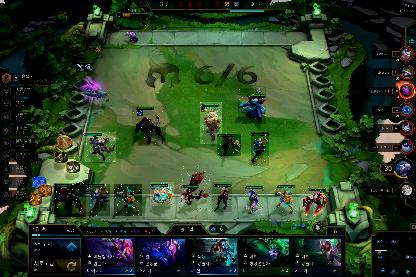1_diana: (212, 182, 232, 212)
1_leesin: (86, 184, 110, 216), (251, 132, 269, 166)
1_nunu: (238, 88, 266, 124)
1_olaf: (302, 186, 328, 218)
1_rakan: (179, 166, 211, 212), (217, 134, 241, 156)
1_rengar: (132, 106, 166, 146), (54, 183, 86, 217)
1_seraphine: (150, 182, 174, 206)
1_sylas: (84, 132, 116, 162)
1_varus: (244, 186, 264, 216)
1_volibear: (200, 102, 222, 144)
1_zeri: (114, 184, 142, 216), (274, 185, 296, 215)
